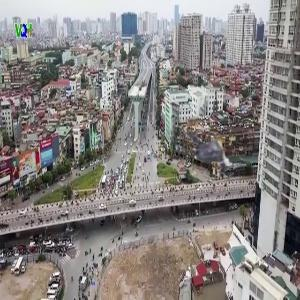drone: (174, 116, 248, 190)
